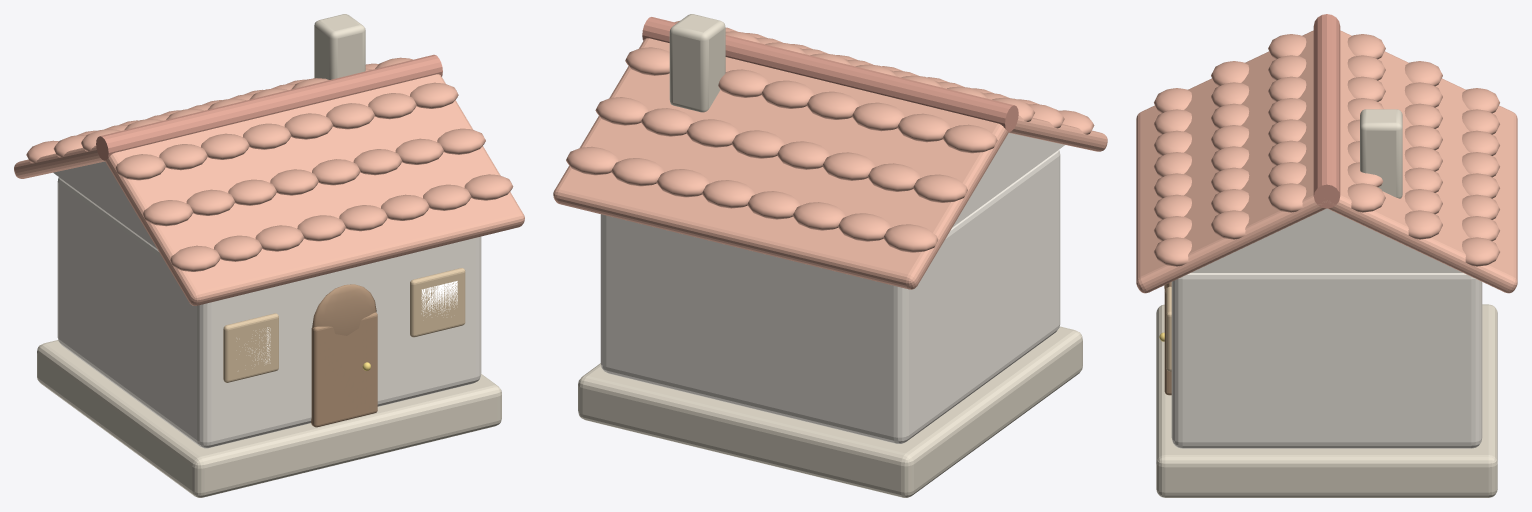
Rendered from cottage.glb.
3 renders of one model, left to right at view 1: azimuth 30°, elevation 25°; view 2: azimuth 150°, elevation 25°; view 3: azimuth 270°, elevation 25°, orthographic. The views are drawn at different scales.
Visible parts, largest first — view 1: walls, roofR, base, ridge, door, winframe_-1.45, winframe_1.45, chimney, gable, doorarch, roofL, tile_-1_2_0 (+24 smaller); view 2: walls, roofL, base, ridge, chimney, gable, roofR, tile_1_1_0, tile_1_2_0, tile_1_0_0, tile_1_1_7, tile_1_0_1 (+18 smaller); view 3: walls, base, roofR, roofL, gable, ridge, chimney, tile_1_2_7, tile_-1_2_7, tile_1_0_7, tile_1_1_7, tile_-1_0_7 (+43 smaller).
Part boxes in pixels (x1,y1,x2,y2): walls: (57, 177, 481, 448); roofR: (105, 74, 524, 305); base: (37, 340, 501, 497); ridge: (96, 54, 442, 160); door: (311, 312, 377, 427); winframe_-1.45: (223, 313, 278, 382); winframe_1.45: (410, 268, 465, 337); chimney: (314, 14, 365, 79); gable: (53, 161, 156, 248); doorarch: (312, 284, 376, 335); roofL: (14, 145, 104, 178); tile_-1_2_0: (115, 154, 165, 180); walls: (600, 150, 1060, 443); roofL: (553, 38, 1008, 289); base: (578, 326, 1082, 497); ridge: (642, 17, 1018, 131); chimney: (669, 14, 725, 112); gable: (952, 133, 1064, 227); roofR: (1009, 115, 1107, 151); tile_1_1_0: (913, 174, 967, 202); tile_1_2_0: (942, 124, 997, 153); tile_1_0_0: (883, 224, 938, 252); tile_1_1_7: (595, 97, 648, 125); tile_1_0_1: (838, 213, 890, 241); walls: (1171, 273, 1482, 448); base: (1156, 304, 1497, 497); roofR: (1136, 30, 1329, 293); roofL: (1323, 30, 1517, 293); gable: (1191, 208, 1462, 272); ridge: (1313, 14, 1340, 208); chimney: (1360, 109, 1402, 198); tile_1_2_7: (1347, 183, 1385, 212); tile_-1_2_7: (1268, 183, 1306, 212); tile_1_0_7: (1462, 237, 1499, 266); tile_1_1_7: (1404, 210, 1442, 239); tile_-1_0_7: (1154, 237, 1191, 266).
Bounding box in the file's own units: 5.27 × 5.05 × 4.91.
